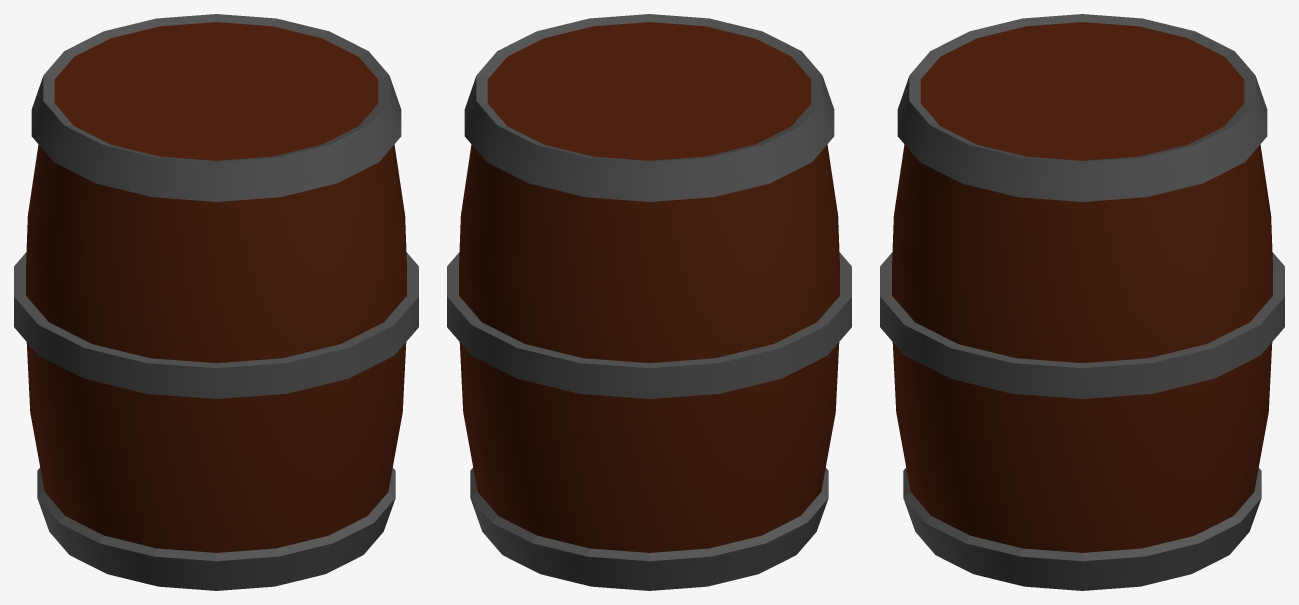
Rendered from Barrel.fbx.
The picture shows the model from 3 angles, left to right: view 1: azimuth 30°, elevation 25°; view 2: azimuth 150°, elevation 25°; view 3: azimuth 270°, elevation 25°; orthographic projection.
Parts seen in each view (by area): view 1: Cylinder006; view 2: Cylinder006; view 3: Cylinder006.
Boxes of the visible parts, left/top/right/bottom form: Cylinder006: left=14, top=14, right=418, bottom=590; Cylinder006: left=447, top=14, right=851, bottom=590; Cylinder006: left=880, top=14, right=1284, bottom=590.
Size of the model in its own units: 5.77 by 6.67 by 5.68.
